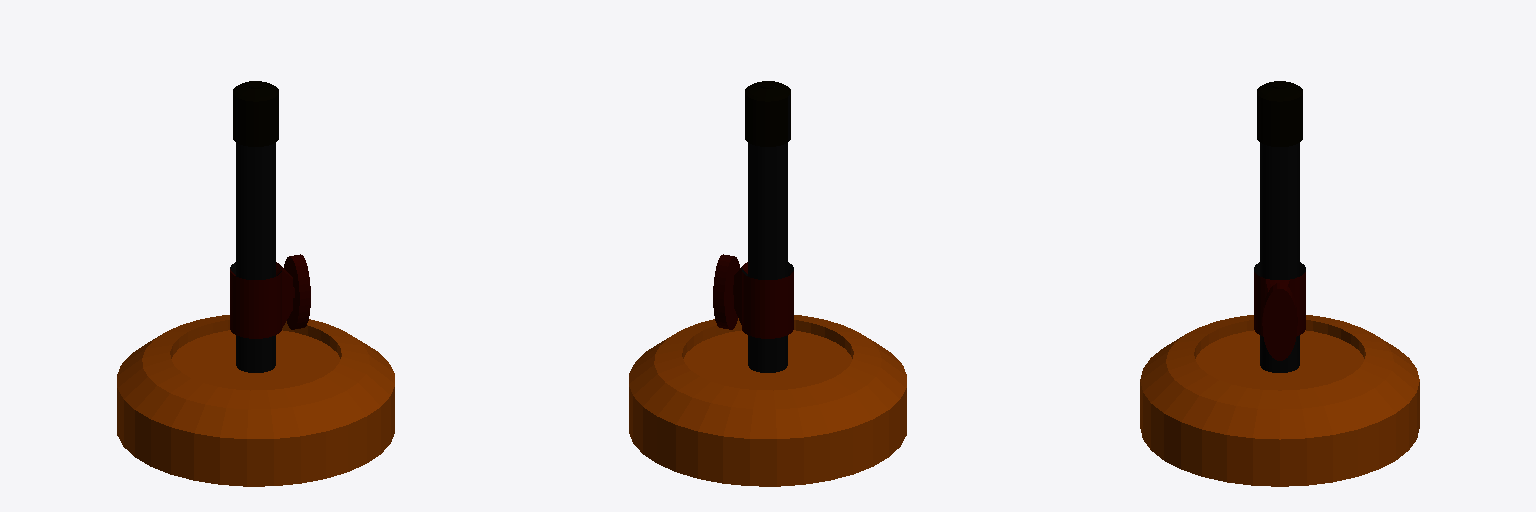
File: Props.obj
The picture shows the model from 3 angles: view 1: azimuth 30°, elevation 25°; view 2: azimuth 150°, elevation 25°; view 3: azimuth 270°, elevation 25°; orthographic projection.
Visible parts, largest first — view 1: Cylinder.001_Cylinder.002; view 2: Cylinder.001_Cylinder.002; view 3: Cylinder.001_Cylinder.002.
Part boxes in pixels (x1,y1,x2,y2): Cylinder.001_Cylinder.002: (117,81,394,486); Cylinder.001_Cylinder.002: (629,81,906,486); Cylinder.001_Cylinder.002: (1140,81,1419,486).
Size of the model in its own units: 2 by 2.71 by 2.